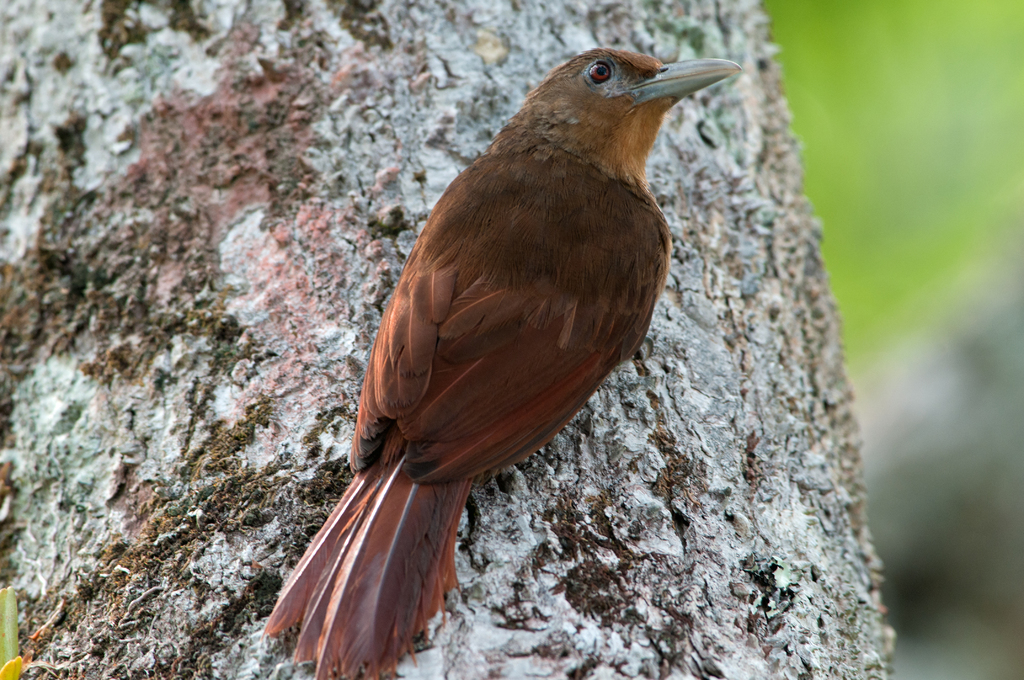Bird: (259, 45, 742, 680)
